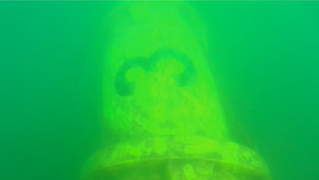3: (114, 47, 197, 97)
pipe: (81, 1, 271, 179)
